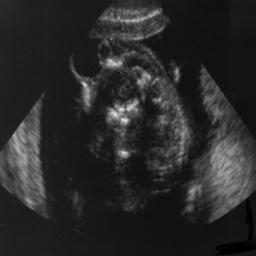abnormal: (59, 28, 192, 204)
